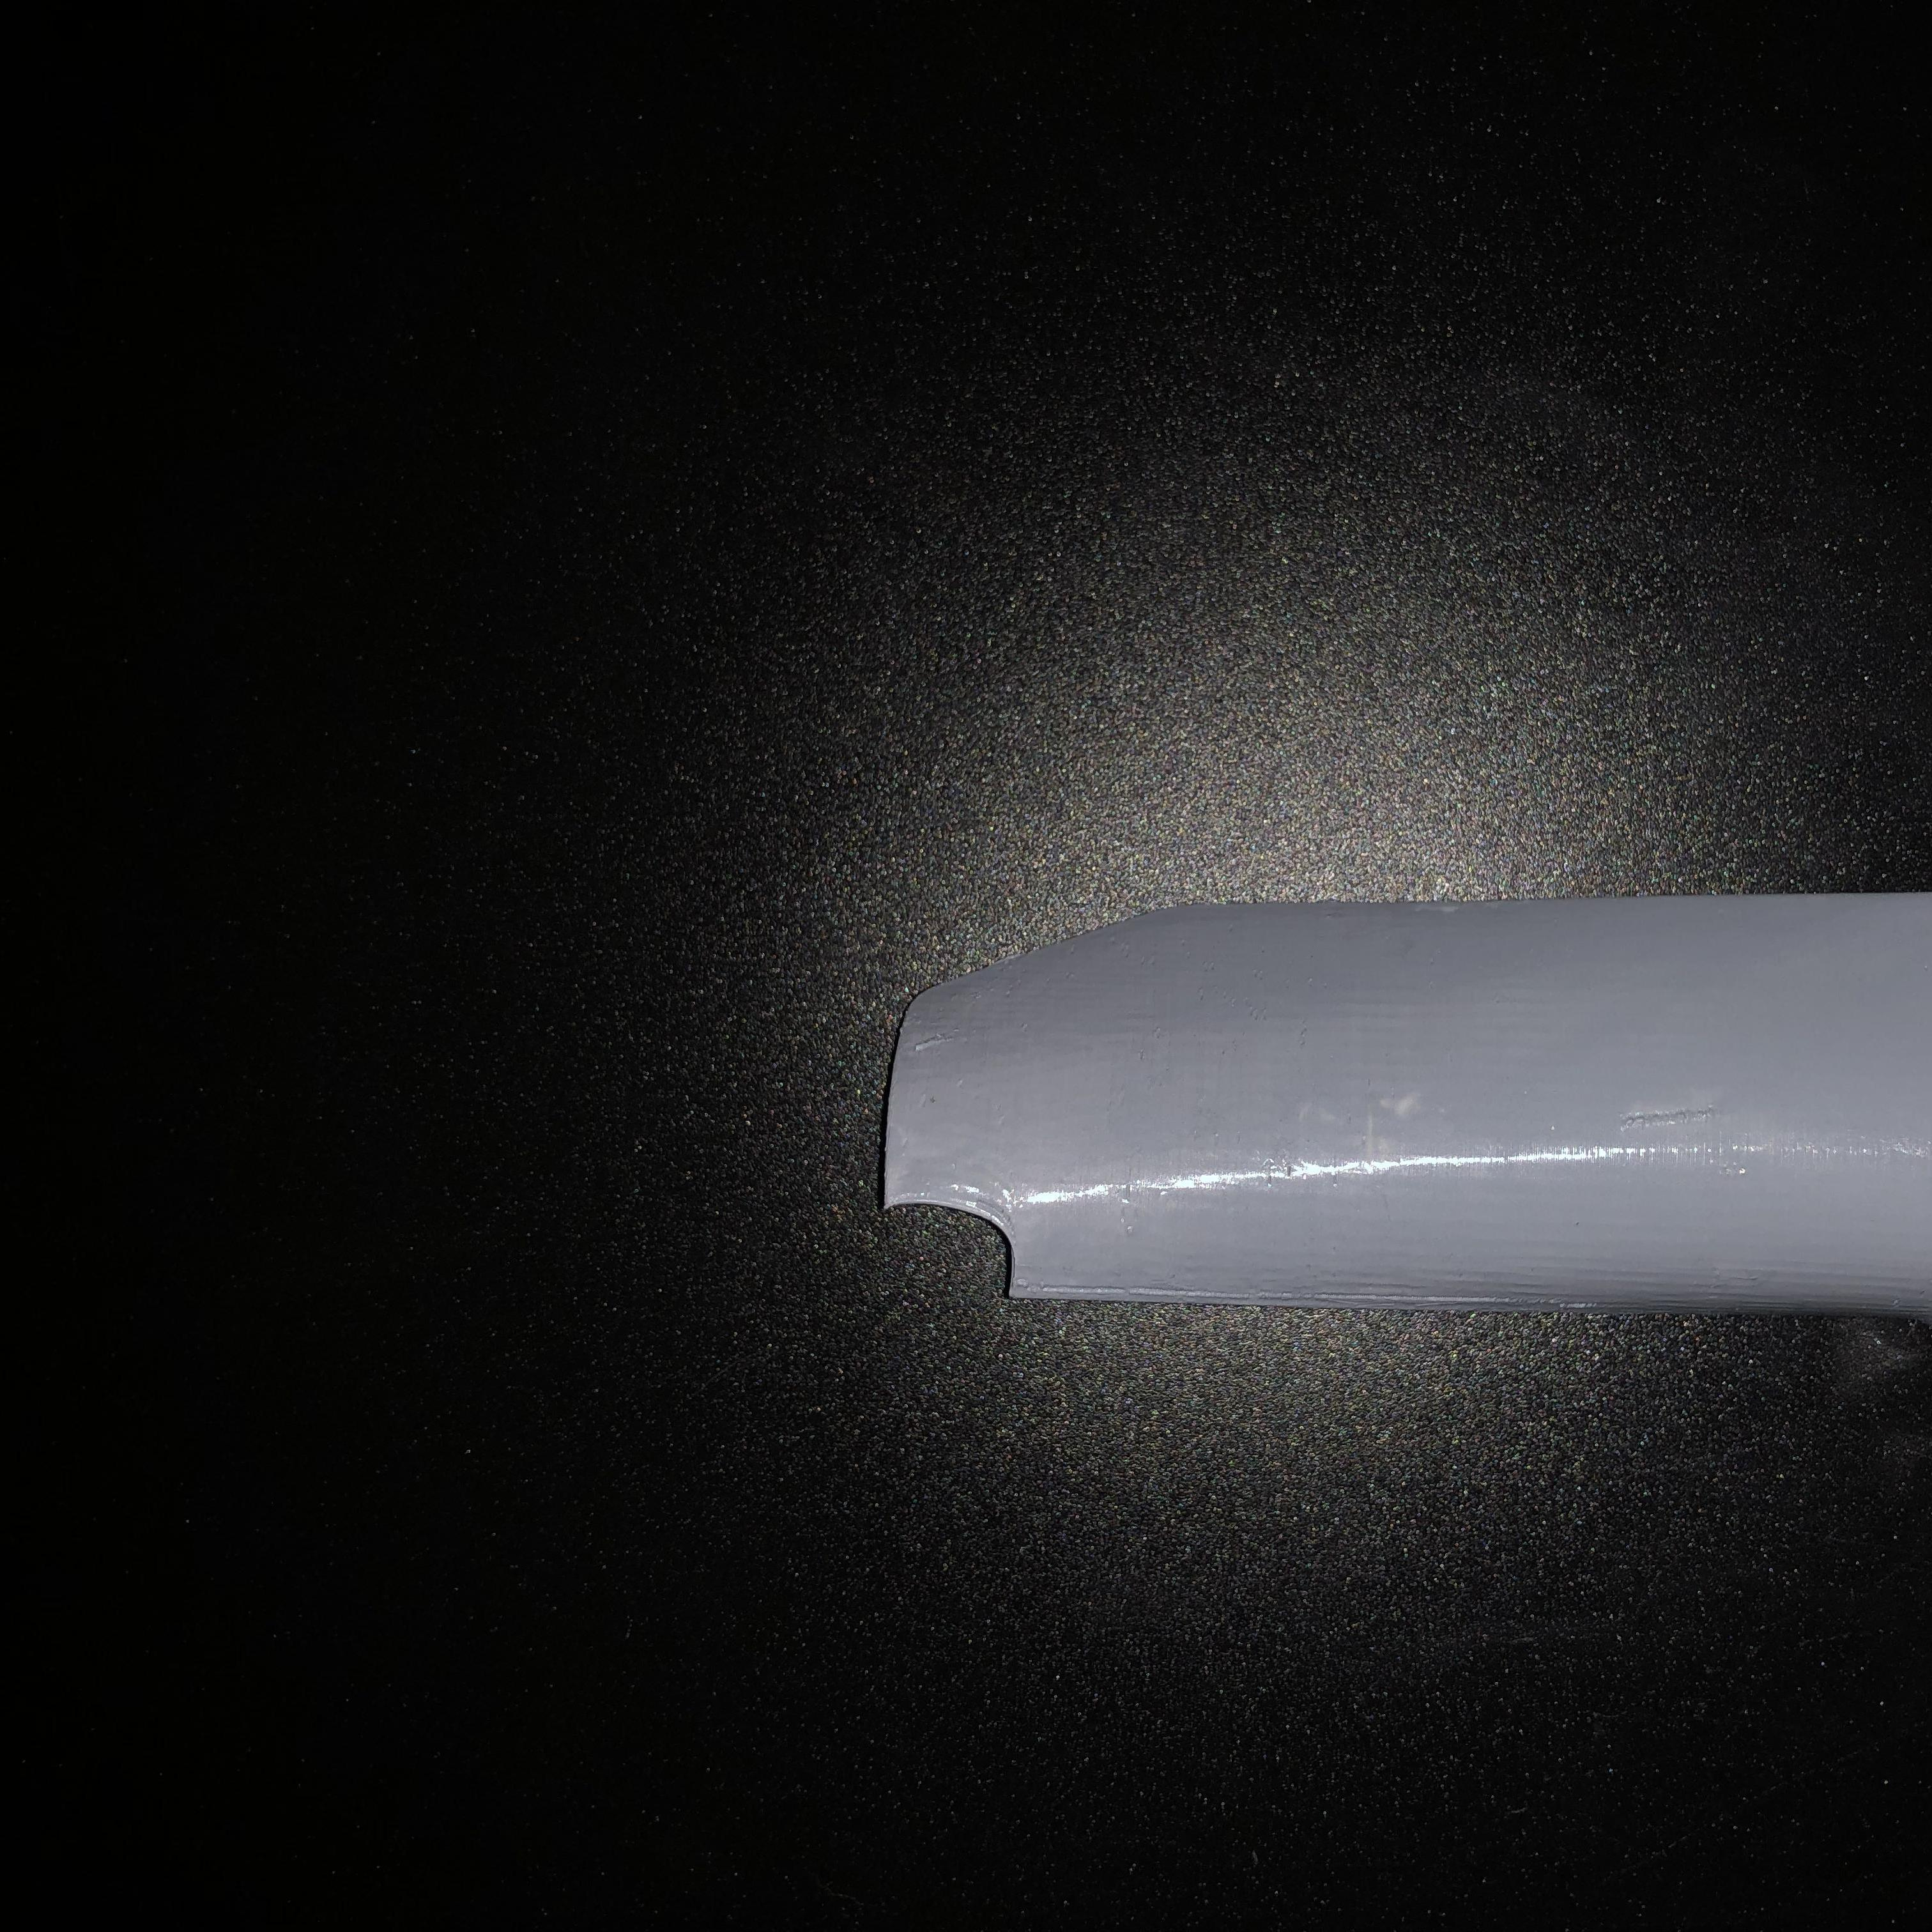fracture: (886, 1180, 1033, 1297)
